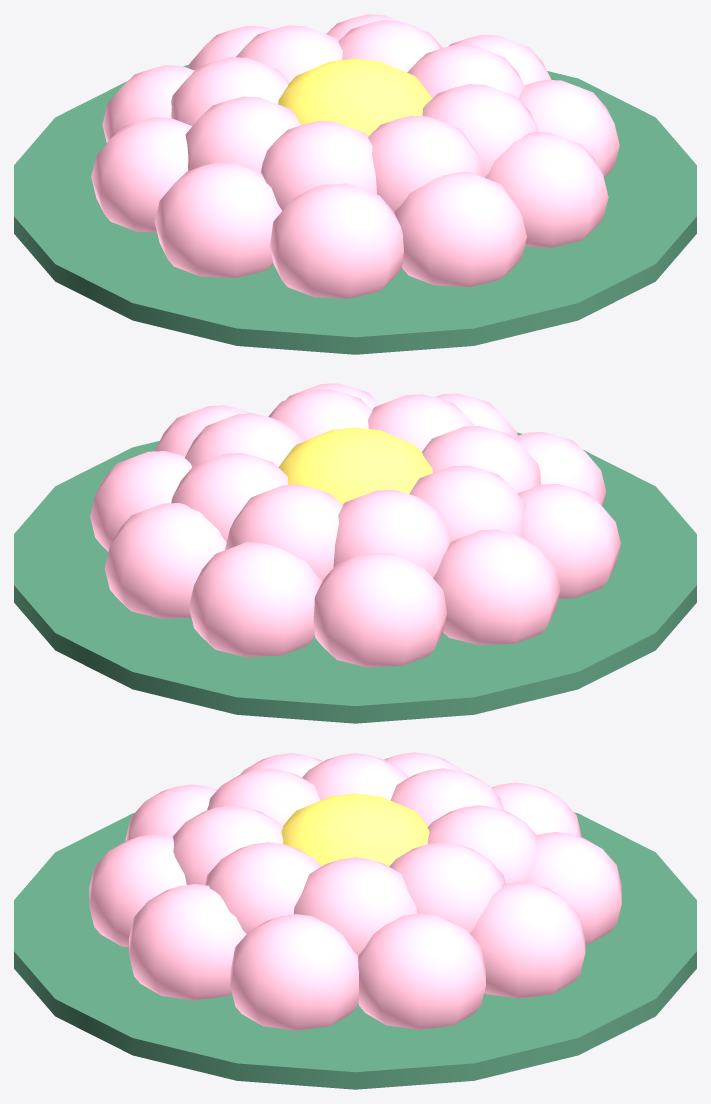
File: lotus_flower.glb
3 renders of one model, top to bottom at view 1: azimuth 30°, elevation 25°; view 2: azimuth 150°, elevation 25°; view 3: azimuth 270°, elevation 25°, orthographic.
Visible parts, largest first — view 1: LotusPetals, LilyPad, GoldenSeedPod; view 2: LotusPetals, LilyPad, GoldenSeedPod; view 3: LotusPetals, LilyPad, GoldenSeedPod.
Boxes of the visible parts, left/top/right/bottom form: LotusPetals: left=91, top=14, right=619, bottom=298; LilyPad: left=14, top=65, right=696, bottom=354; GoldenSeedPod: left=278, top=58, right=432, bottom=136; LotusPetals: left=90, top=383, right=620, bottom=667; LilyPad: left=14, top=432, right=696, bottom=723; GoldenSeedPod: left=278, top=427, right=432, bottom=504; LotusPetals: left=89, top=752, right=621, bottom=1030; LilyPad: left=14, top=812, right=696, bottom=1089; GoldenSeedPod: left=281, top=793, right=429, bottom=866.
Bounding box in the file's own units: 1.8 × 0.42 × 1.77.
